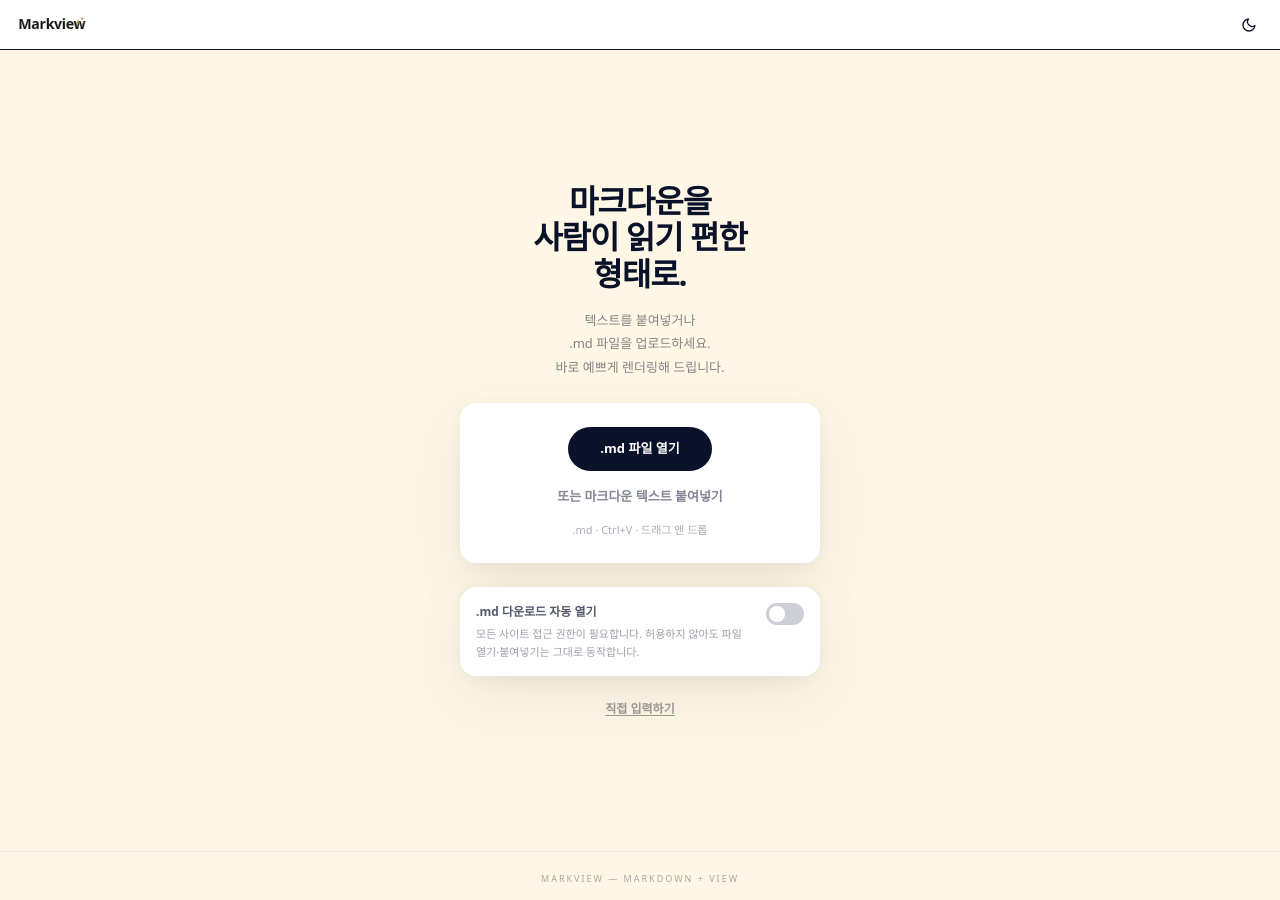
Test: ExtensionApp › preserves content when switching tabs
Enter edit mode
Click the button "직접 입력하기" at [640, 709], box [605,700,675,718]
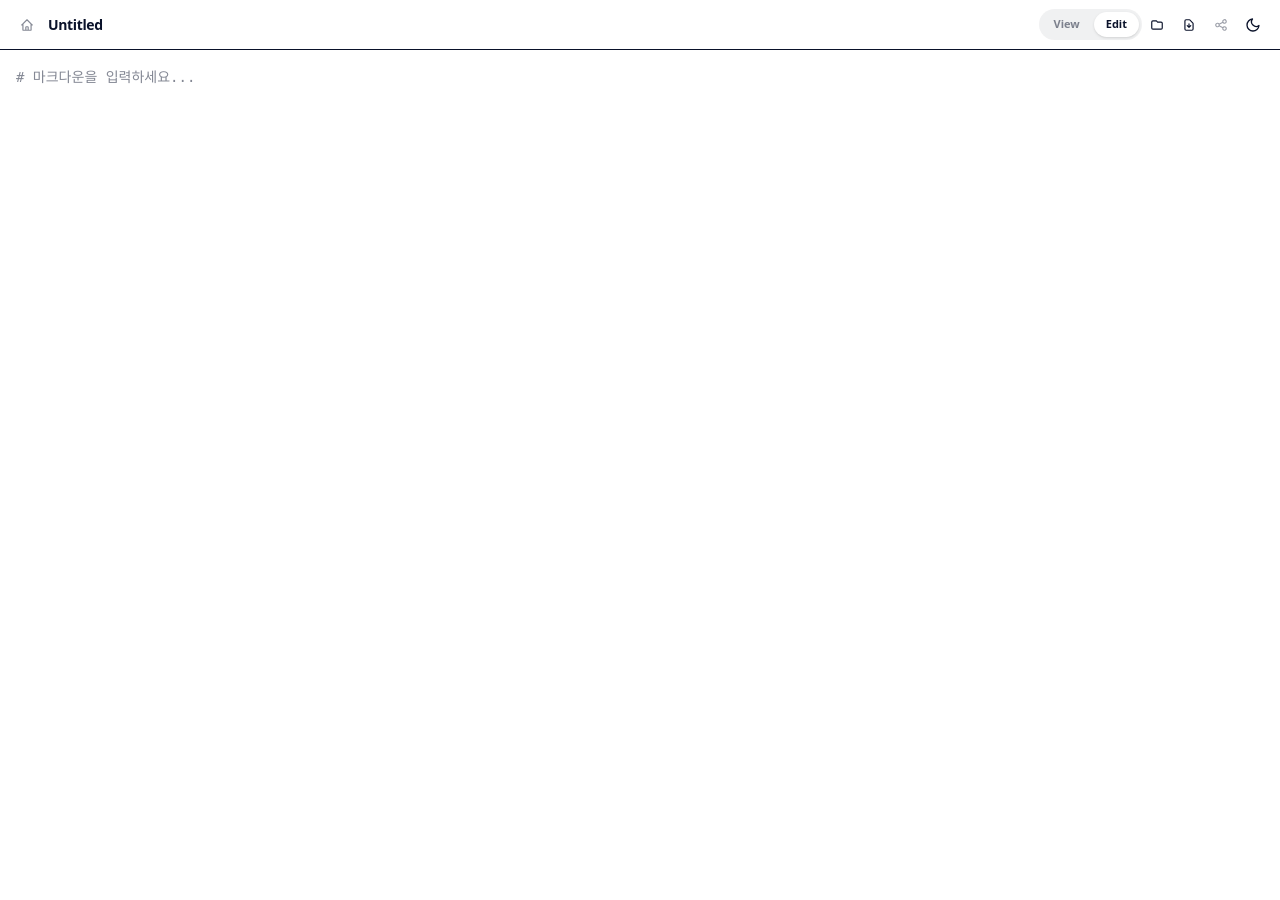
Type "# Hello World" into the text box with placeholder "# 마크다운을 입력하세요..." at [640, 475], box [0,50,1279,899]
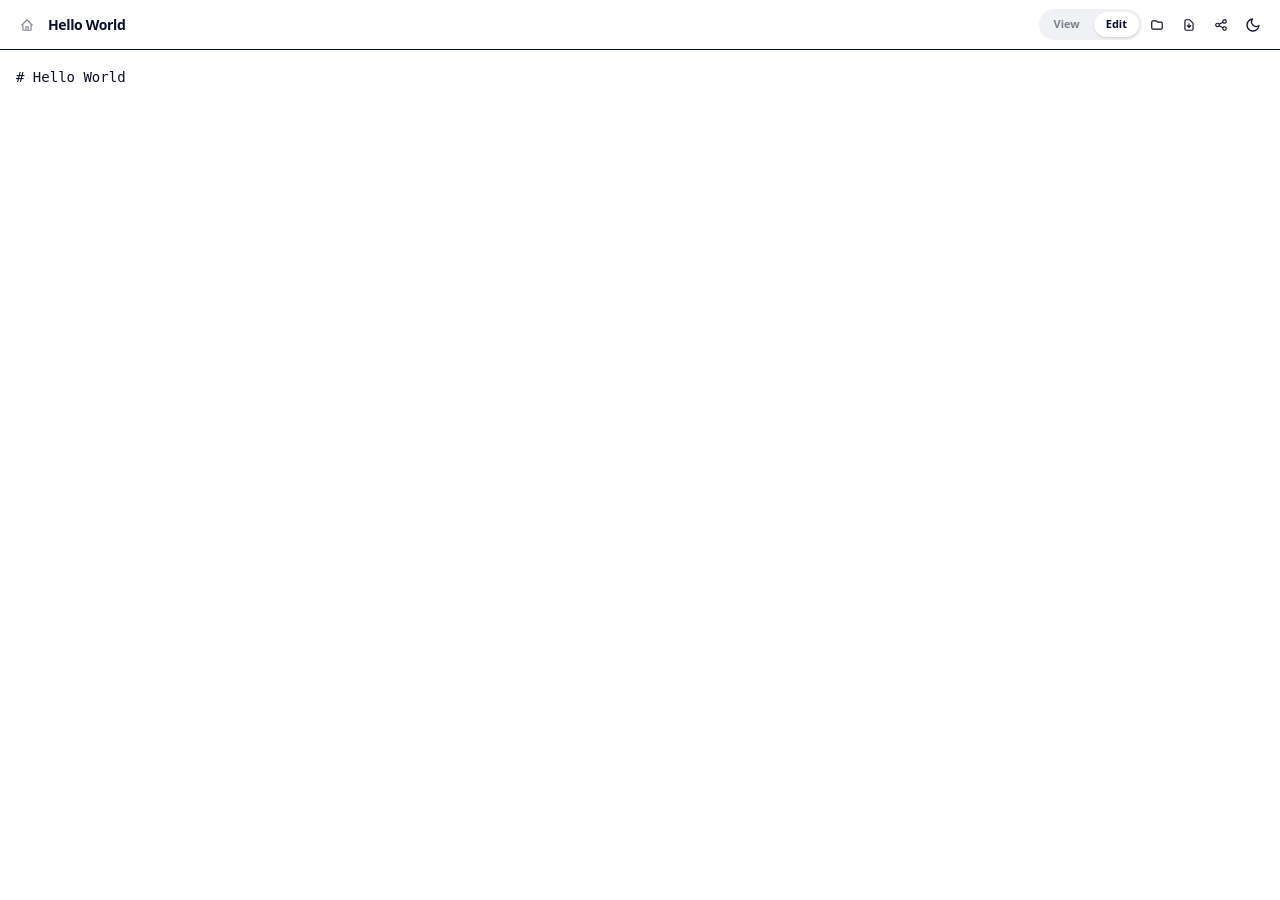
Switch to view and back
Click the button "View" at [1067, 25], box [1042,12,1092,37]
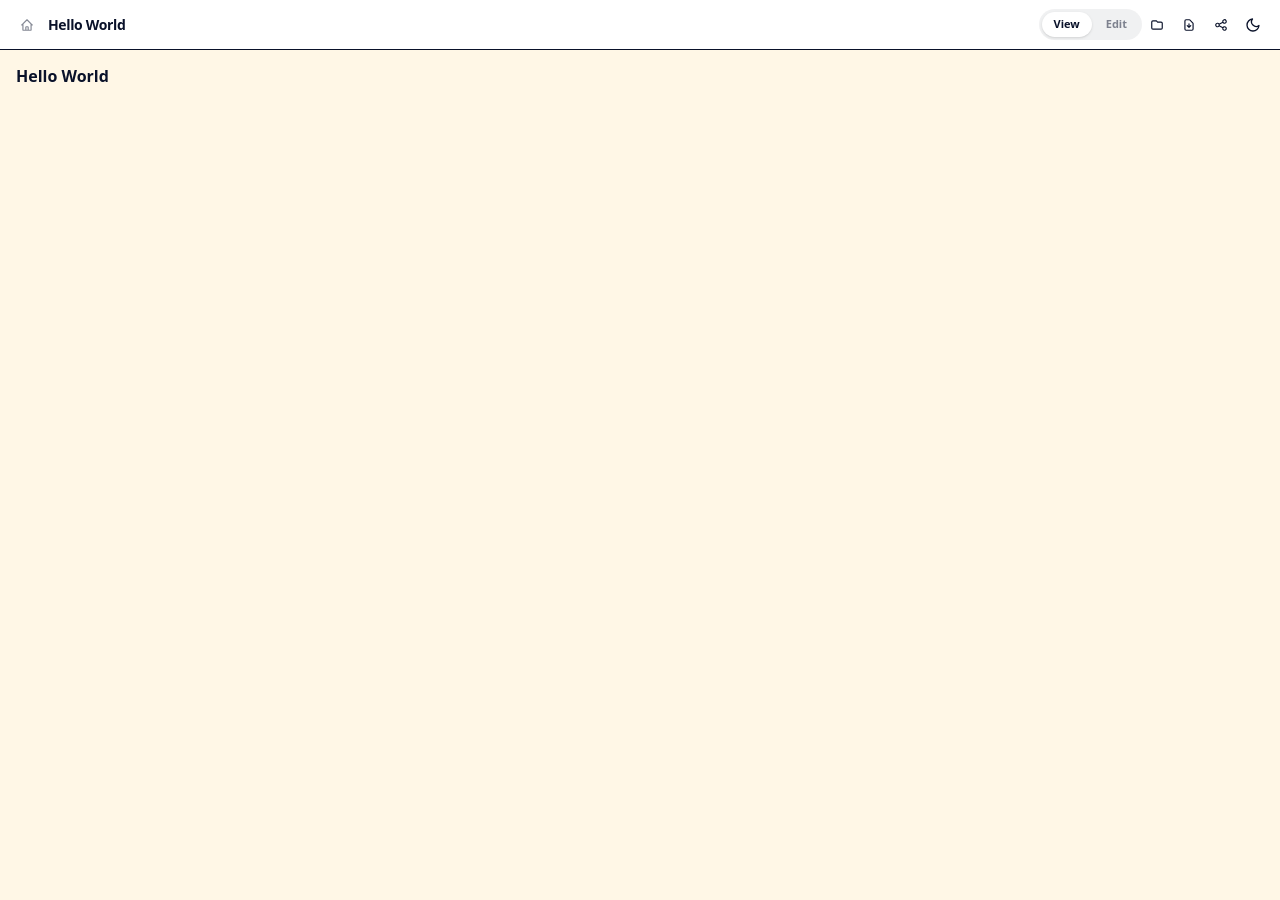
Click the button "Edit" at [1116, 25], box [1094,12,1139,37]
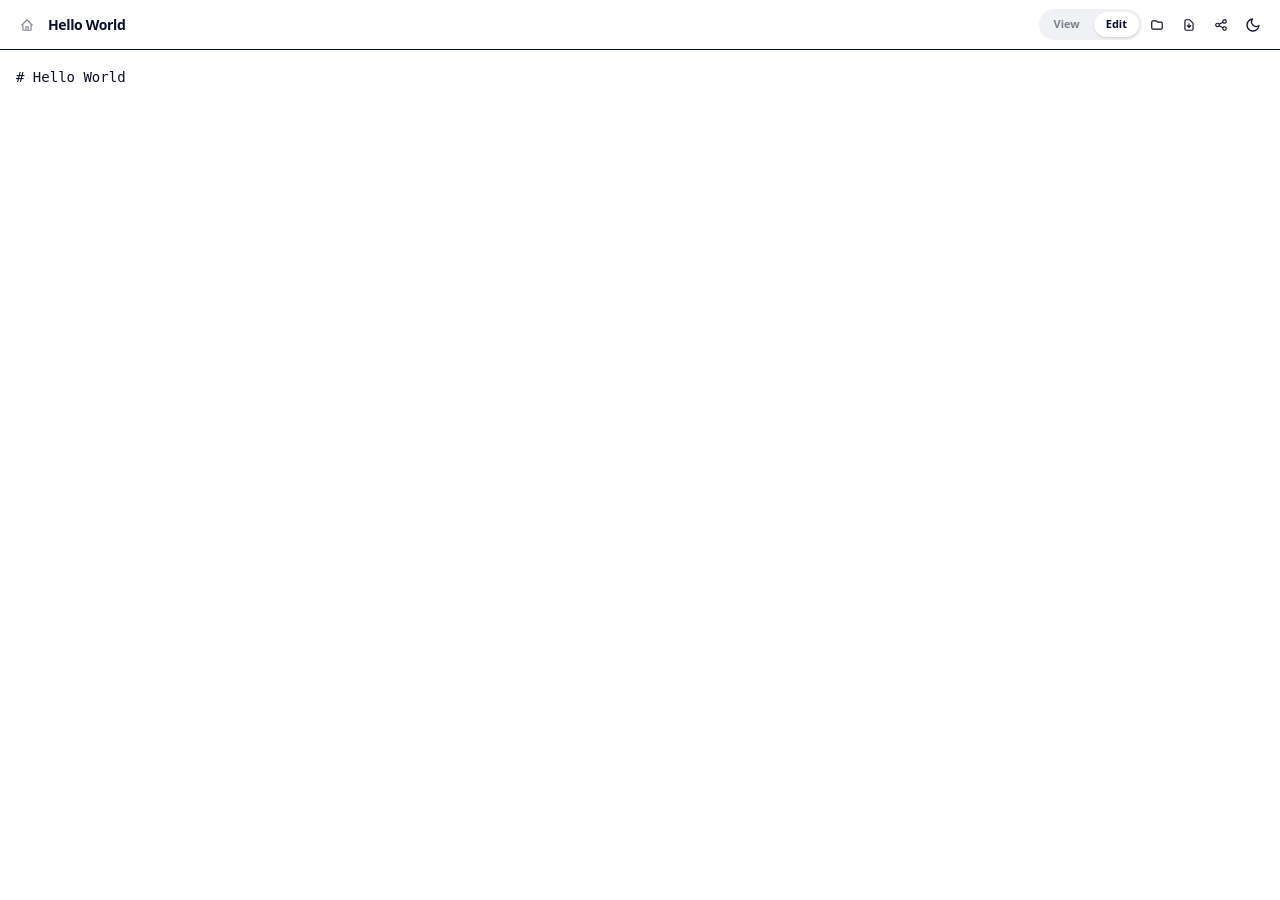
Result: the text box with placeholder "# 마크다운을 입력하세요..." holds "# Hello World"
